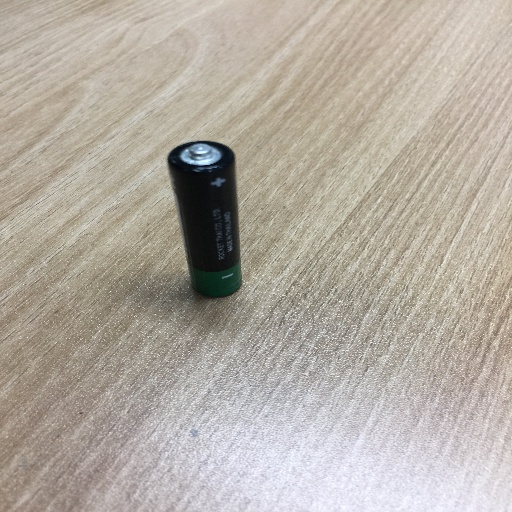Battery_0: (162, 130, 255, 310)
